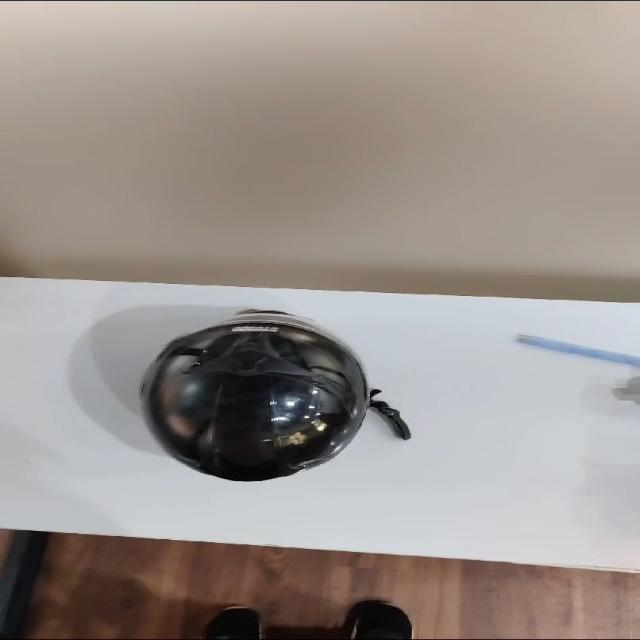helmet: (112, 307, 398, 493)
